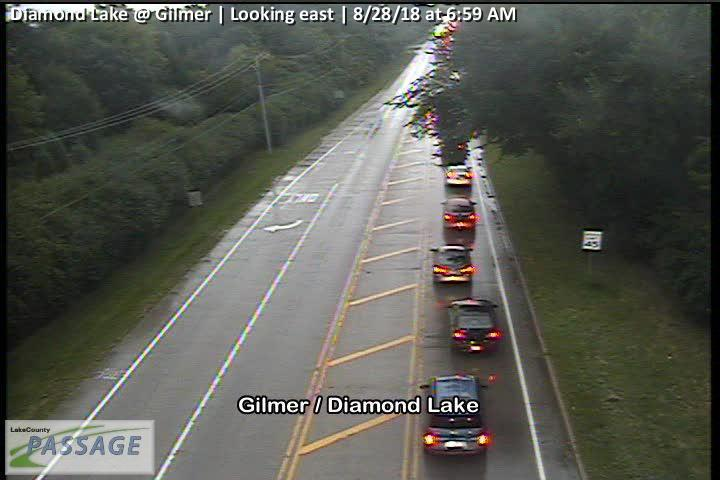SUV: (420, 372, 491, 456), (444, 296, 502, 355), (430, 245, 474, 283), (441, 195, 477, 229)
Sedan: (445, 164, 472, 185)
